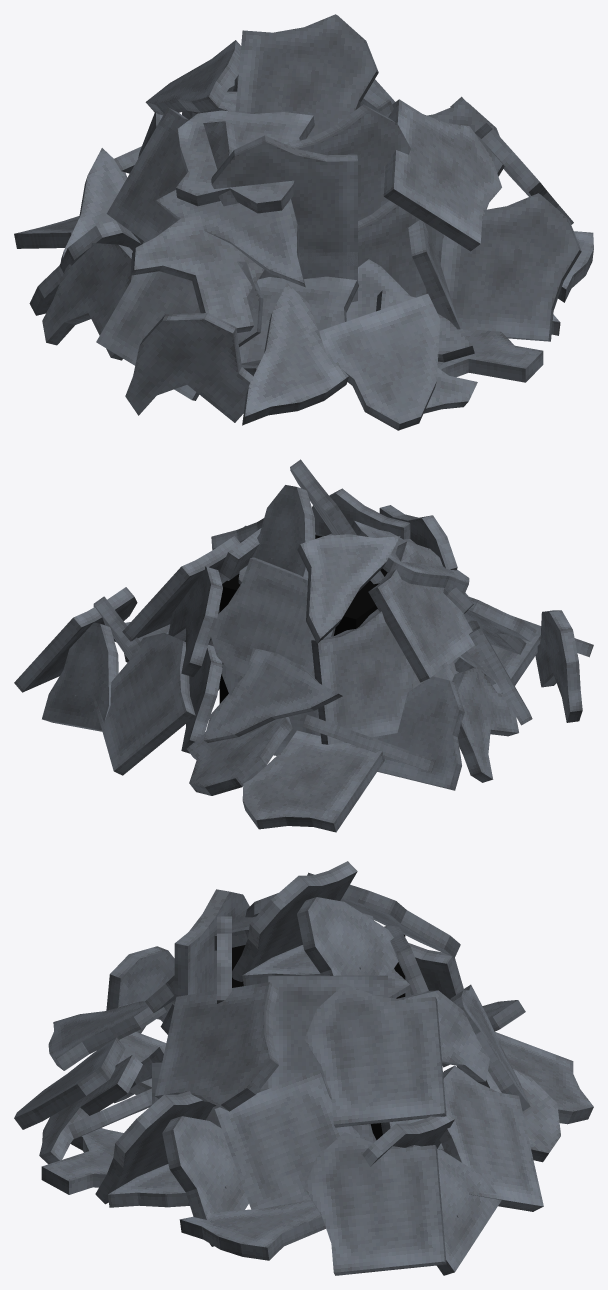
File: rubble_pile_1.gltf
The picture shows the model from 3 angles, top to bottom: view 1: azimuth 30°, elevation 25°; view 2: azimuth 150°, elevation 25°; view 3: azimuth 270°, elevation 25°; orthographic projection. The views are drawn at different scales.
Visible parts, largest first — view 1: cuboid (×29); view 2: cuboid (×29), cube; view 3: cuboid (×34), cube.
Boxes of the visible parts, box(x1,y1,x2,y2) form: cuboid (×29): box(14, 14, 593, 430); cuboid (×29): box(14, 459, 582, 832); cube: box(219, 535, 387, 703); cuboid (×34): box(14, 861, 593, 1275); cube: box(232, 935, 405, 1139).
Size of the model in its own units: 4.97 by 2.74 by 4.85.
6 materials, 6 textured.
